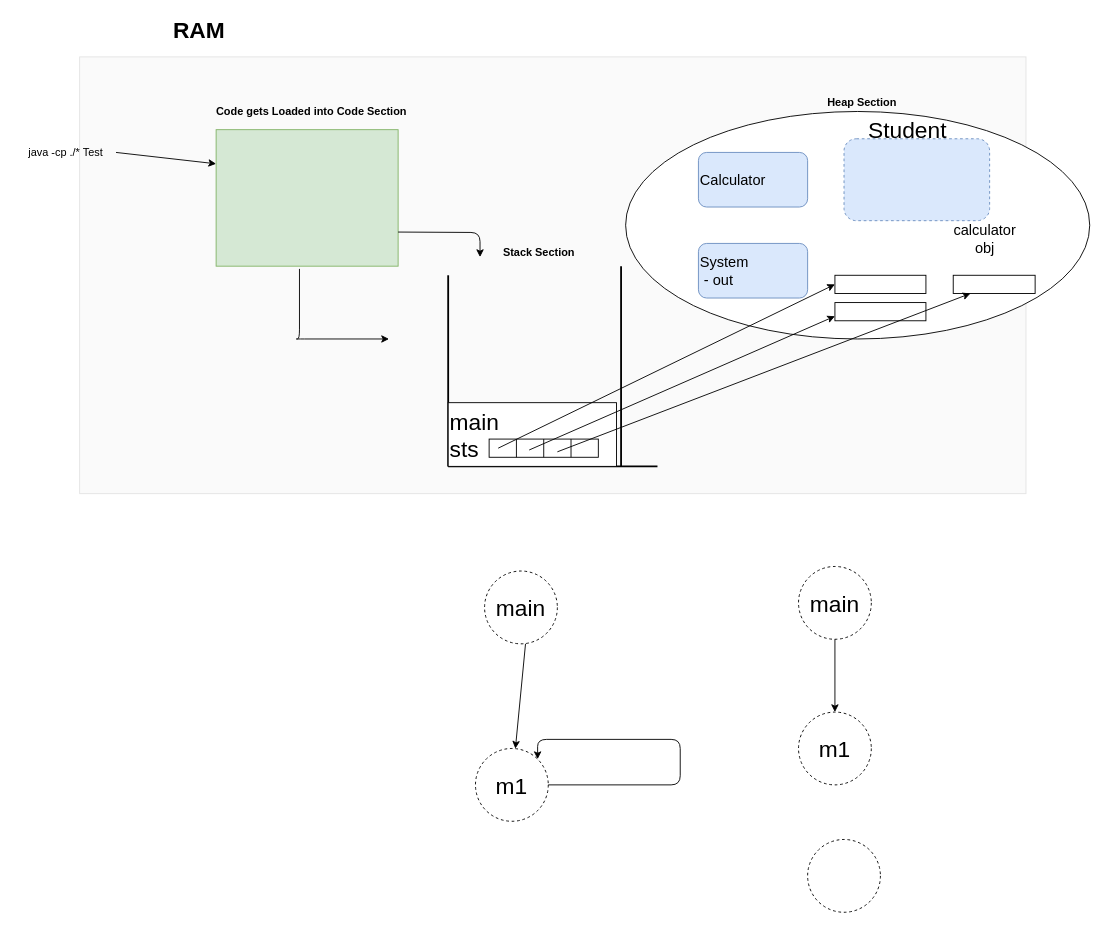
The diagram is 1106 pixels wide and 928 high, and some of its shapes have lost their labels. Here are the shapes that lost their labels. From the top down, the centre of each, then its label:
At pixel 306 197: "class Test { ---- ------main(){ - - - - - - - - - - } ------ ------ ------ }".
At pixel 916 179: "count=1 getCount() cal".
At pixel 843 875: "m2".
